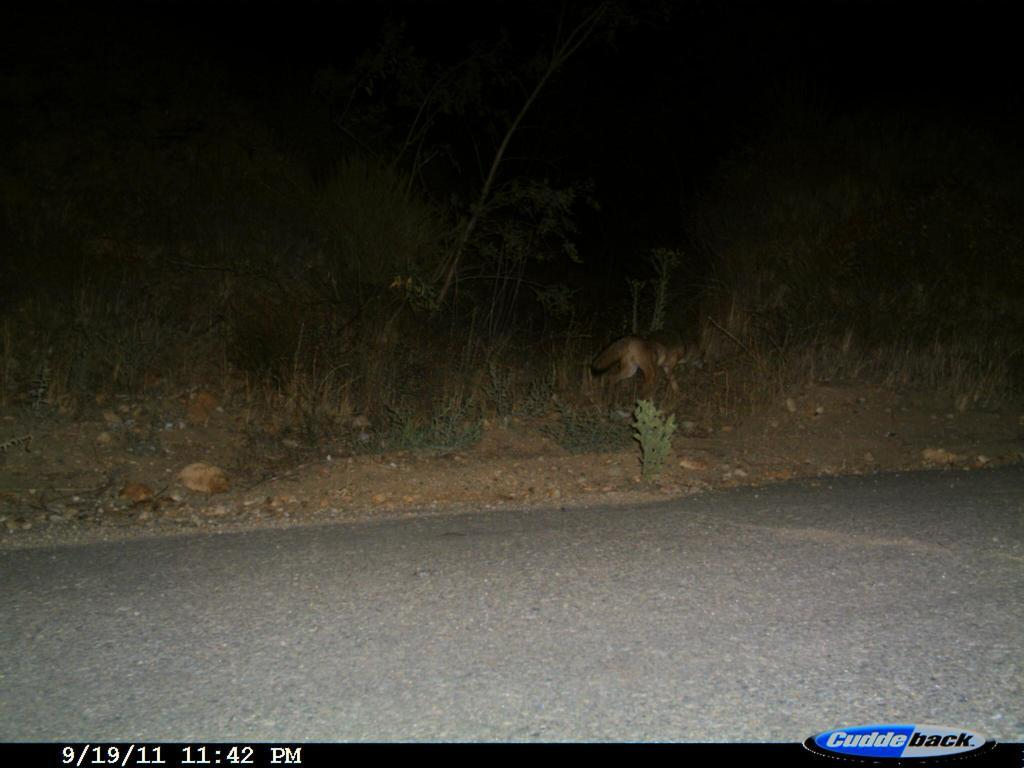coyote: (584, 328, 711, 400)
